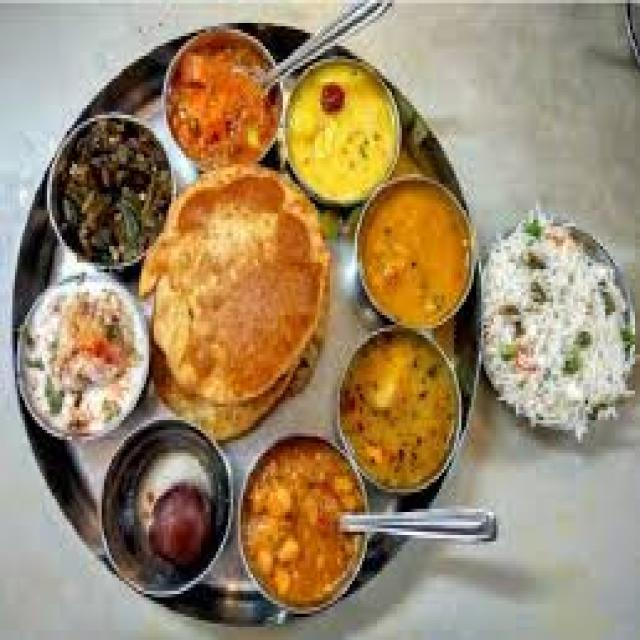dal: (345, 333, 467, 487), (286, 61, 403, 200), (356, 184, 474, 321)
rice: (474, 219, 633, 435)
sweet: (104, 441, 228, 592)
veg-fry: (20, 273, 148, 440), (154, 18, 284, 173)
